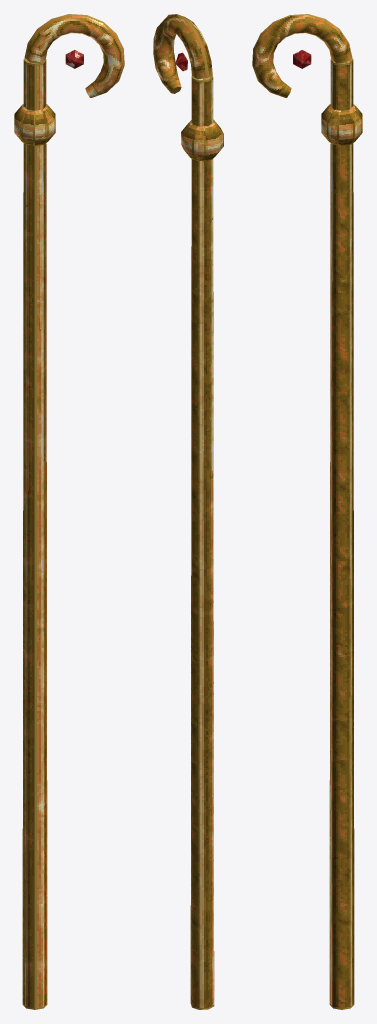
File: crosier.glb
The picture shows the model from 3 angles, left to right: view 1: azimuth 90°, elevation 25°; view 2: azimuth 210°, elevation 25°; view 3: azimuth 270°, elevation 25°; orthographic projection.
Visible parts, largest first — view 1: crosier; view 2: crosier; view 3: crosier.
Boxes of the visible parts, left/top/right/bottom form: crosier: left=14, top=14, right=124, bottom=1009; crosier: left=153, top=14, right=223, bottom=1009; crosier: left=252, top=14, right=362, bottom=1009.
Bounding box in the file's own units: 0.0495 × 1.24 × 0.125.
1 material, 1 textured.
